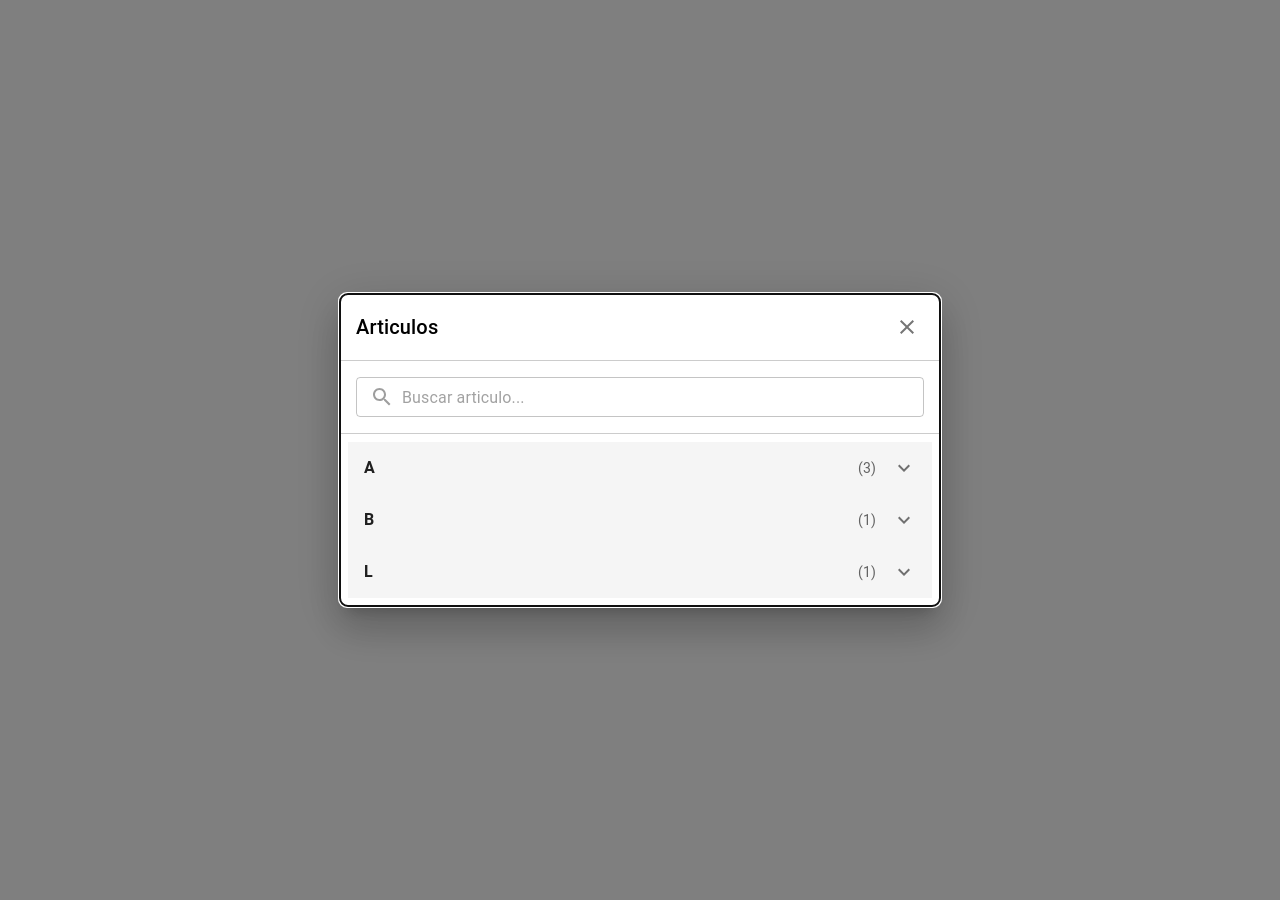
Test case: ProductSelectionModal Component › filters products based on search term
Type "ace" into the field with placeholder "Buscar articulo...".
click(663, 397); type("ace")  # box [402, 377, 924, 417]
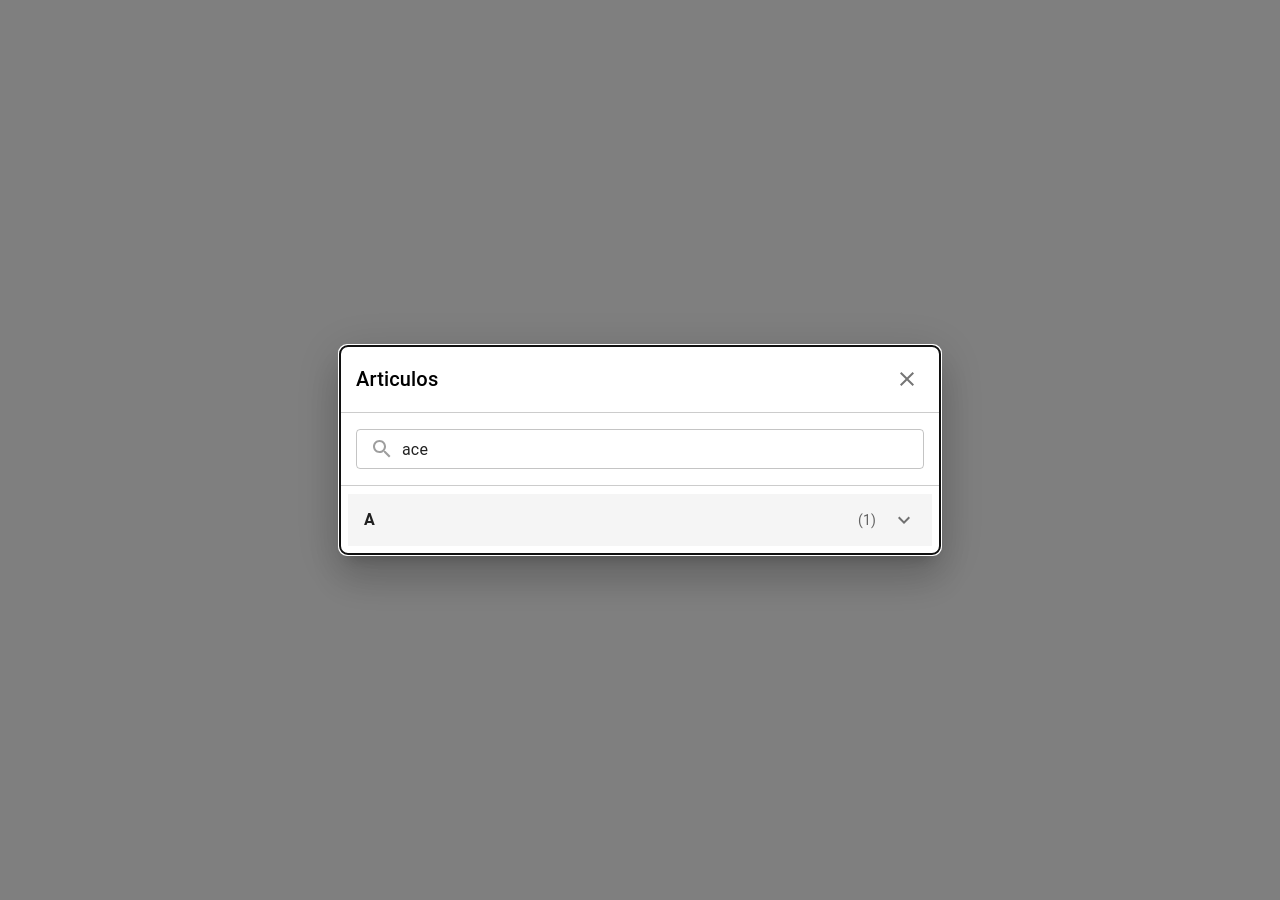
Expected: the heading "A" is shown, [364, 506, 375, 534]
Expected: the button "B" is gone
